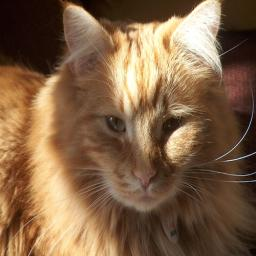catnose: (133, 166, 158, 187)
